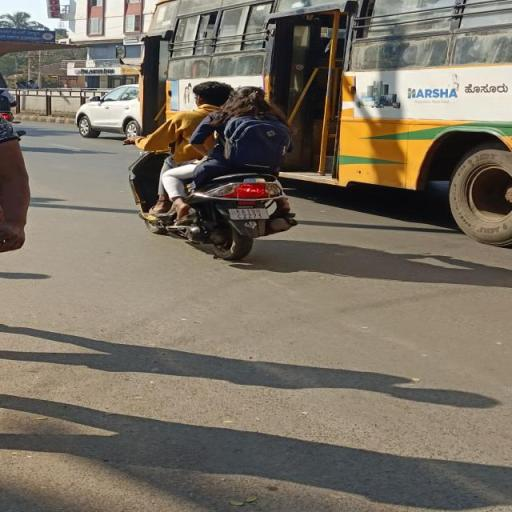bike: (119, 80, 305, 266)
numberplate: (229, 208, 270, 220)
withouthelmet: (194, 81, 230, 107), (229, 88, 266, 110)
